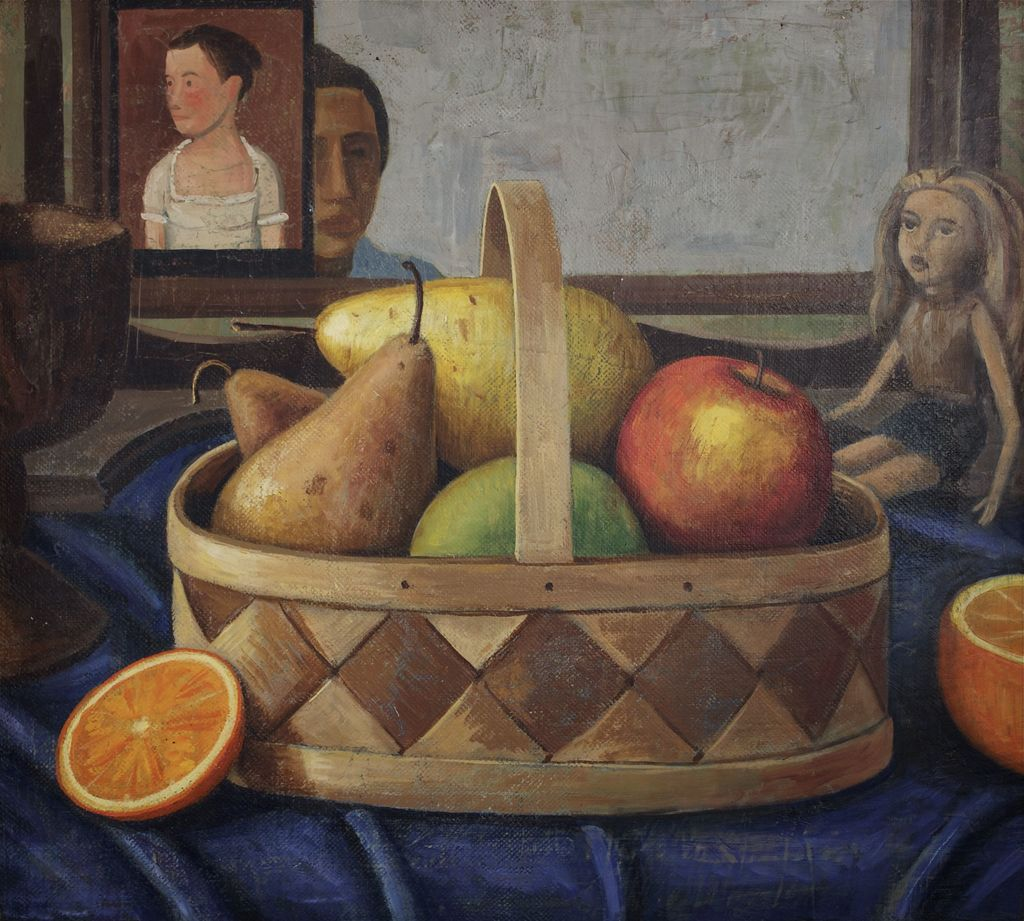Apple: (613, 349, 828, 545)
